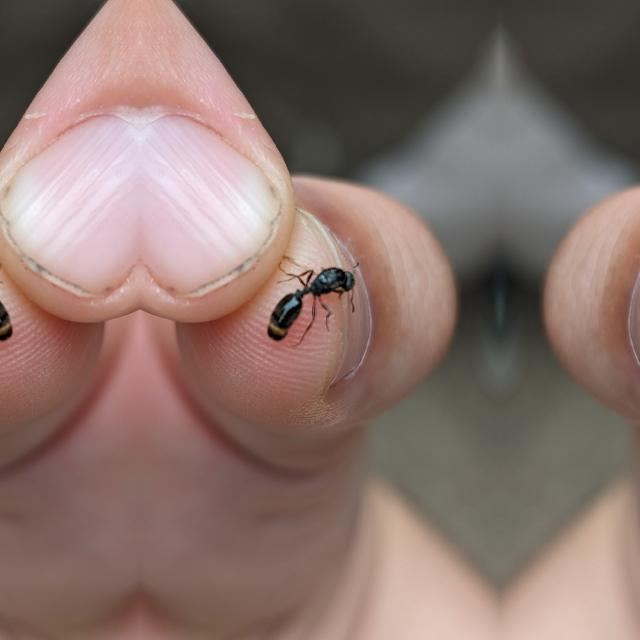Tetramorium: (260, 245, 366, 351)
